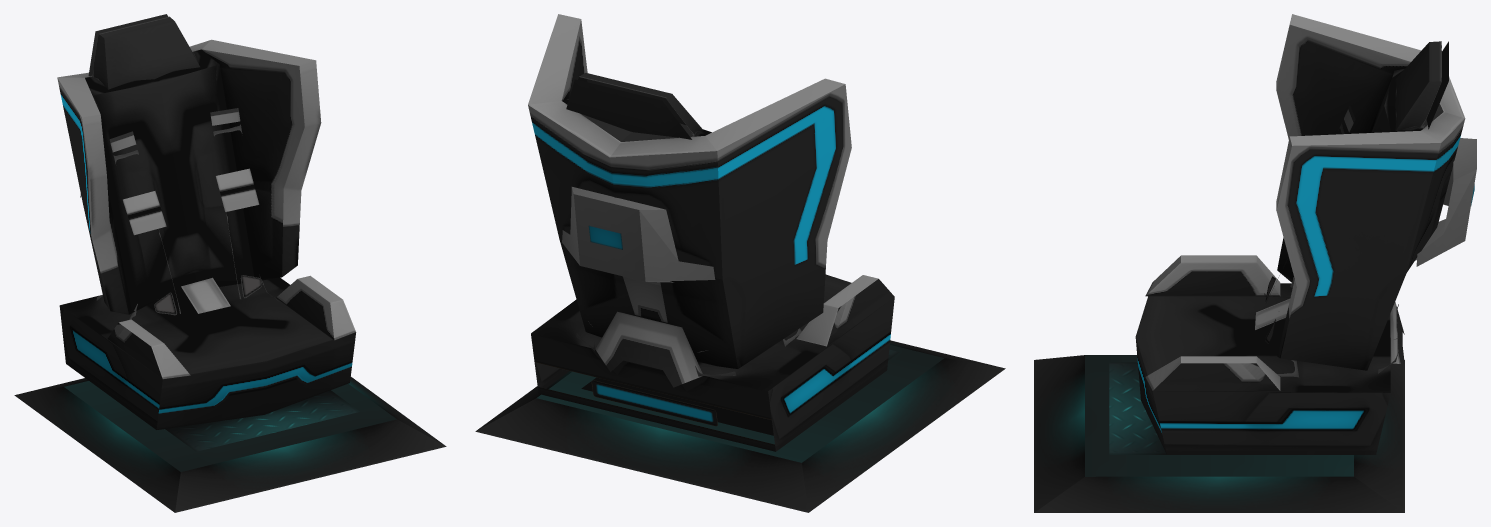
Rendered from obj_interactive_seat_05_lod1.fbx.
The picture shows the model from 3 angles, left to right: view 1: azimuth 30°, elevation 25°; view 2: azimuth 150°, elevation 25°; view 3: azimuth 270°, elevation 25°; orthographic projection. The views are drawn at different scales.
Visible parts, largest first — view 1: obj_interactive_seat_08; view 2: obj_interactive_seat_08; view 3: obj_interactive_seat_08.
Boxes of the visible parts, bbox=[...] form: obj_interactive_seat_08: bbox=[14, 14, 446, 512]; obj_interactive_seat_08: bbox=[475, 14, 1005, 512]; obj_interactive_seat_08: bbox=[1034, 14, 1476, 512].
Bounding box in the file's own units: 3.5 × 4 × 4.28.
